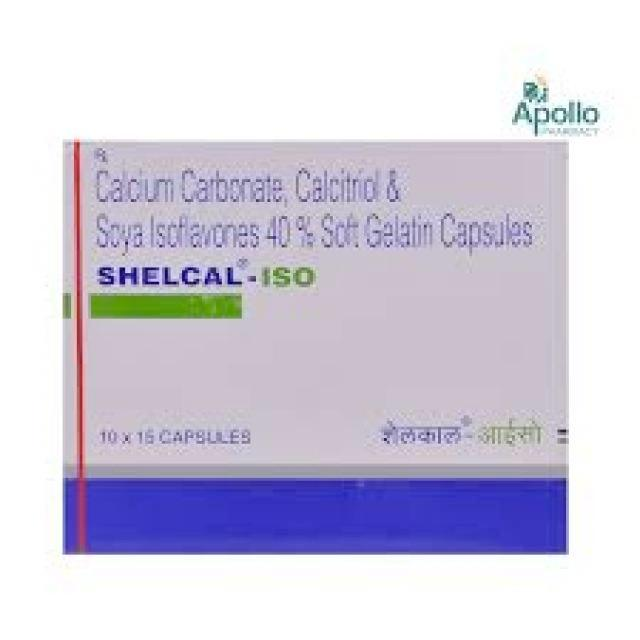authentic: (33, 56, 620, 560)
